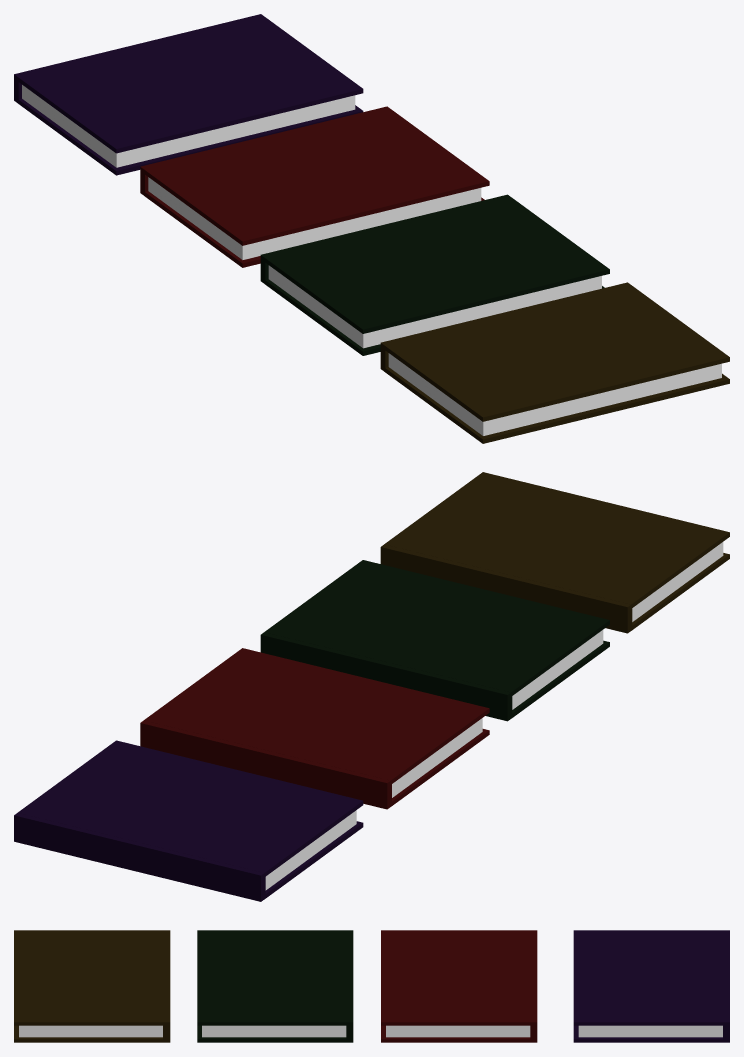
3 views of the same model, one above another, from view 1: azimuth 30°, elevation 25°; view 2: azimuth 150°, elevation 25°; view 3: azimuth 270°, elevation 25° (orthographic). The views are drawn at different scales.
Parts seen in each view (by area): view 1: Box023, Box011, Box015, Box019, Box006, Box021, Box017, Box013, Box010, Box022, Box012, Box016 (+4 smaller); view 2: Box011, Box023, Box019, Box015, Box024, Box020, Box016, Box012, Box006, Box021, Box013, Box017 (+4 smaller); view 3: Box023, Box015, Box019, Box011, Box013, Box017, Box021, Box006, Box022, Box014, Box018, Box010 (+4 smaller).
Boxes of the visible parts, left/top/right/bottom form: Box023: left=18, top=16, right=363, bottom=153; Box011: left=384, top=285, right=729, bottom=421; Box015: left=264, top=197, right=609, bottom=333; Box019: left=144, top=109, right=489, bottom=245; Box006: left=388, top=353, right=721, bottom=435; Box021: left=22, top=85, right=355, bottom=167; Box017: left=148, top=177, right=481, bottom=259; Box013: left=268, top=265, right=601, bottom=348; Box010: left=385, top=367, right=729, bottom=443; Box022: left=18, top=99, right=363, bottom=175; Box012: left=380, top=282, right=630, bottom=371; Box016: left=260, top=194, right=510, bottom=283; Box011: left=384, top=472, right=729, bottom=608; Box023: left=18, top=740, right=363, bottom=876; Box019: left=144, top=648, right=489, bottom=783; Box015: left=264, top=560, right=609, bottom=695; Box024: left=14, top=813, right=265, bottom=901; Box020: left=140, top=720, right=391, bottom=809; Box016: left=260, top=632, right=512, bottom=721; Box012: left=380, top=544, right=632, bottom=633; Box006: left=632, top=542, right=723, bottom=621; Box021: left=265, top=810, right=356, bottom=890; Box013: left=512, top=630, right=603, bottom=709; Box017: left=392, top=718, right=482, bottom=797; Box023: left=573, top=930, right=724, bottom=1025; Box015: left=197, top=930, right=347, bottom=1025; Box019: left=381, top=930, right=531, bottom=1025; Box011: left=14, top=930, right=164, bottom=1025; Box013: left=202, top=1025, right=346, bottom=1037; Box017: left=386, top=1025, right=530, bottom=1037; Box021: left=578, top=1025, right=722, bottom=1037; Box006: left=19, top=1025, right=162, bottom=1037; Box022: left=573, top=1025, right=724, bottom=1042; Box014: left=197, top=1025, right=347, bottom=1042; Box018: left=381, top=1025, right=531, bottom=1042; Box010: left=14, top=1025, right=164, bottom=1042.
Size of the model in its own units: 107 by 10.98 by 352.
